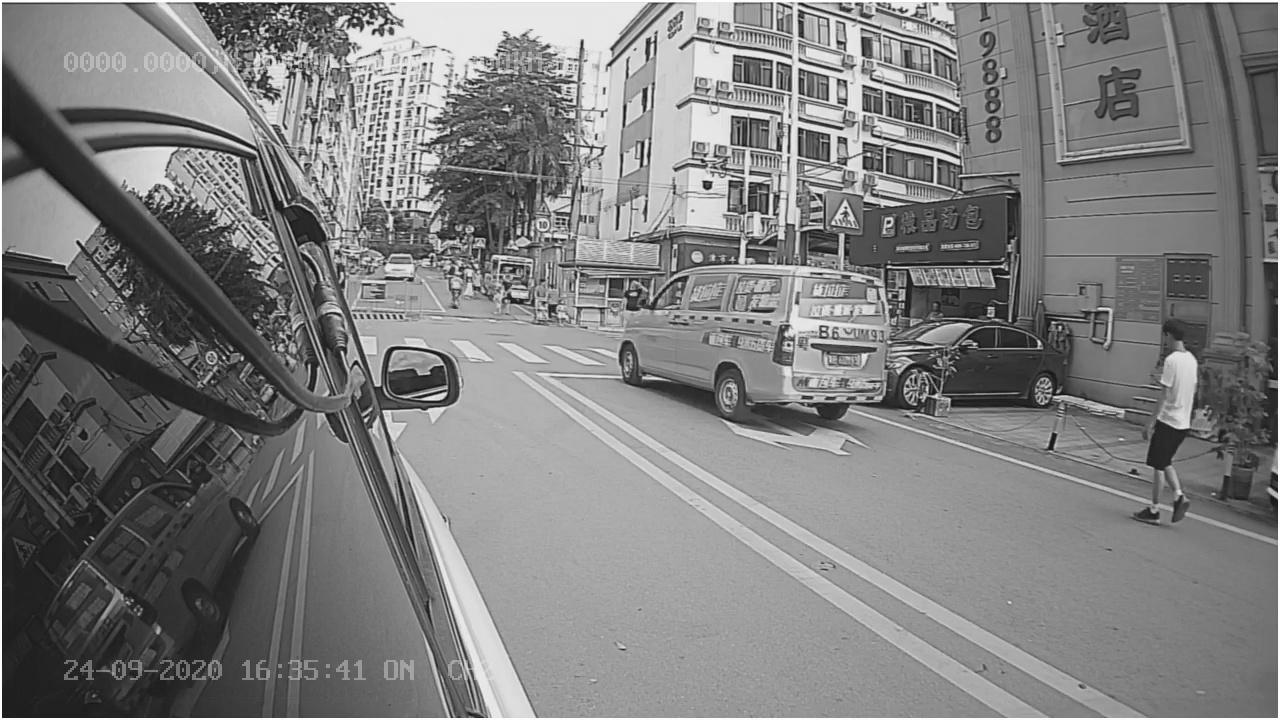person: (1101, 303, 1221, 541)
